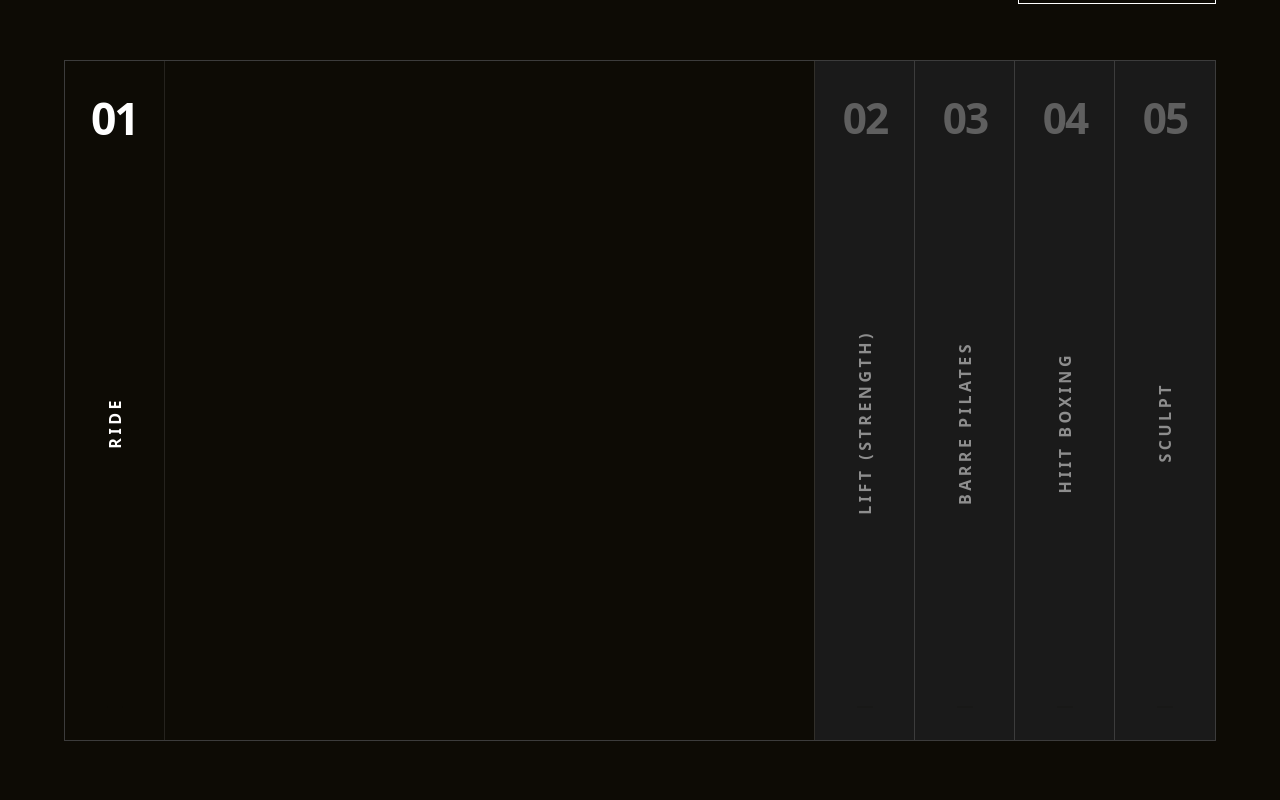
Test: ClassSection Component › switches active tab when a tab is clicked
The width and height of the screenshot is (1280, 800).
(page scrolled)
// Click on LIFT tab
Click the tab "02 LIFT (Strength)".
click(865, 400)  # box [815,61,915,740]
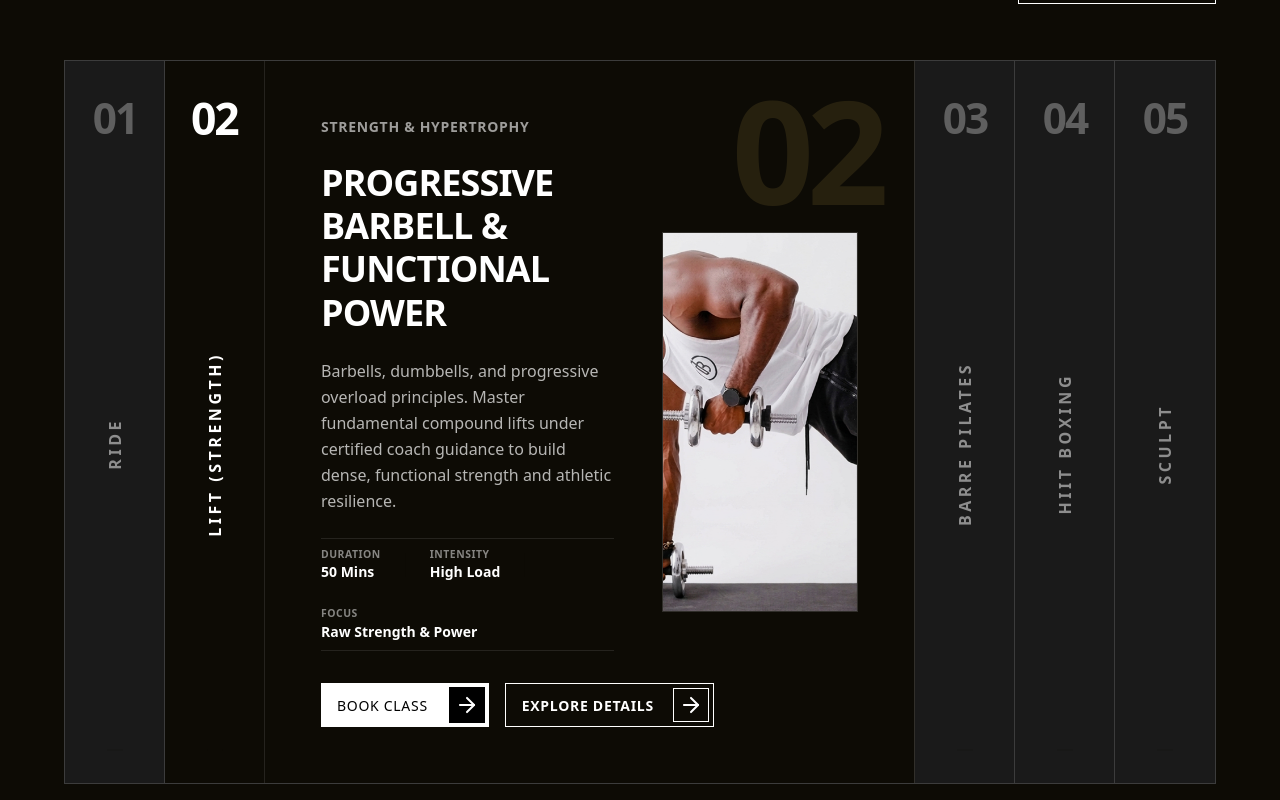
Expected: the heading "Progressive Barbell & Functional Power" is shown, [321,158,553,337]
